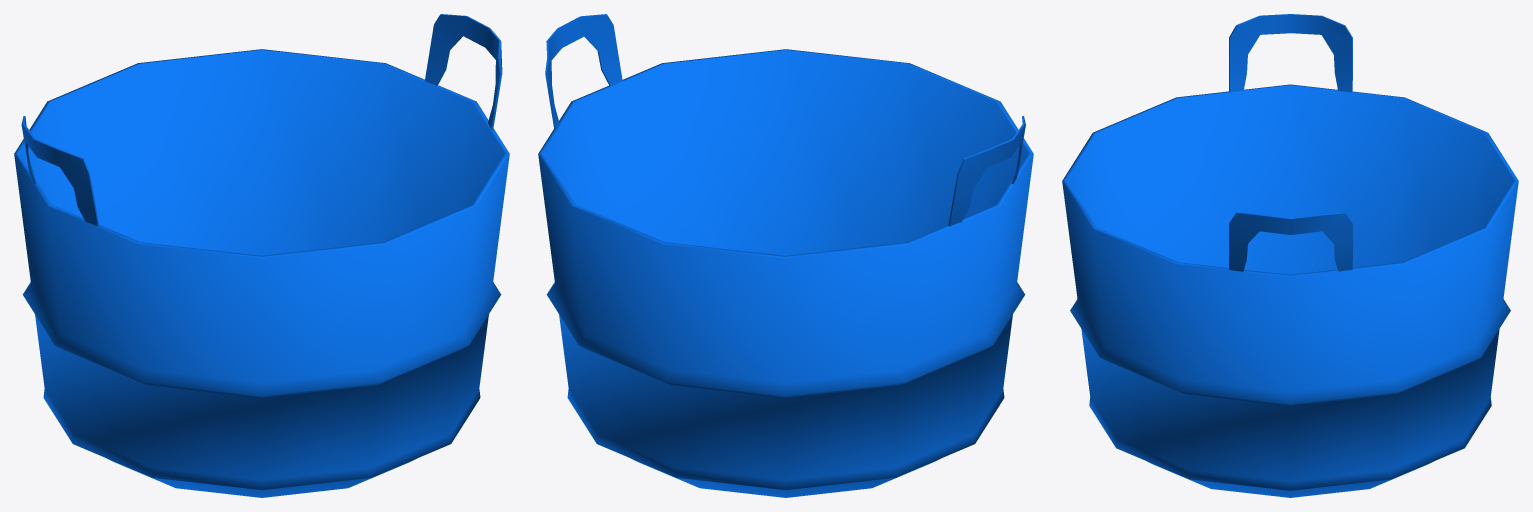
The model's file is Laundry_Tub_G.FBX.
3 renders of one model, left to right at view 1: azimuth 30°, elevation 25°; view 2: azimuth 150°, elevation 25°; view 3: azimuth 270°, elevation 25°, orthographic. The views are drawn at different scales.
Parts seen in each view (by area): view 1: Laundry_Tub; view 2: Laundry_Tub; view 3: Laundry_Tub.
Boxes of the visible parts, x1,y1,x2,y2 form: Laundry_Tub: (14, 14, 509, 497); Laundry_Tub: (538, 14, 1033, 497); Laundry_Tub: (1062, 14, 1518, 497).
Size of the model in its own units: 102 by 73.29 by 96.11.
